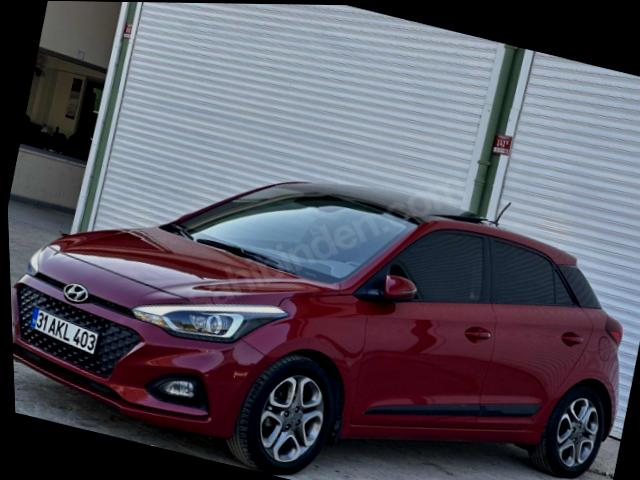plaka: (30, 307, 97, 353)
